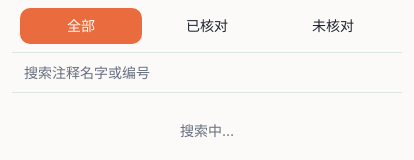
Test: NoteSearchList › asks the server with the typed words and status, never a local full list
Later steps or results of the test are not shown.
Type "设置" into the field with placeholder "搜索注释名字或编号" at (207, 73), box [12, 53, 402, 93]
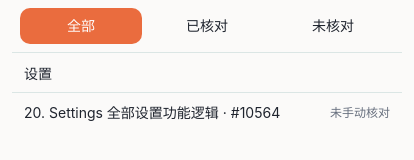
Now the text "20. Settings 全部设置功能逻辑 · #10564" is shown, box [24, 103, 280, 123]
